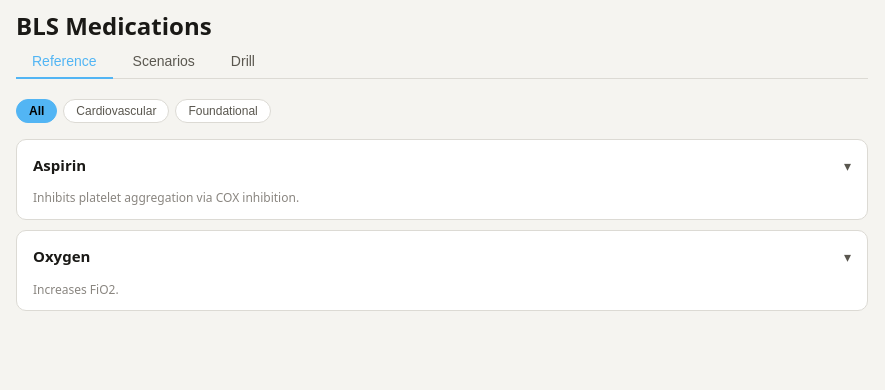
Test: BlsMedsView — Scenarios tab › shows followUp question in deep mode
Click the button "Scenarios": (164, 62) [117,45,211,79]
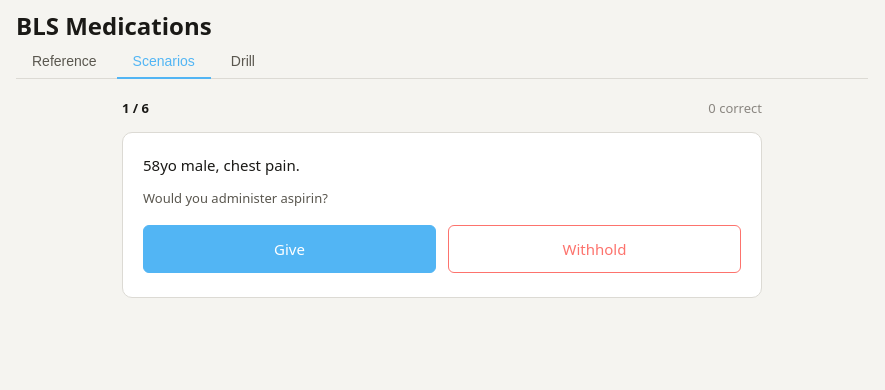
Click the button "Give": (290, 249) [143,225,436,273]
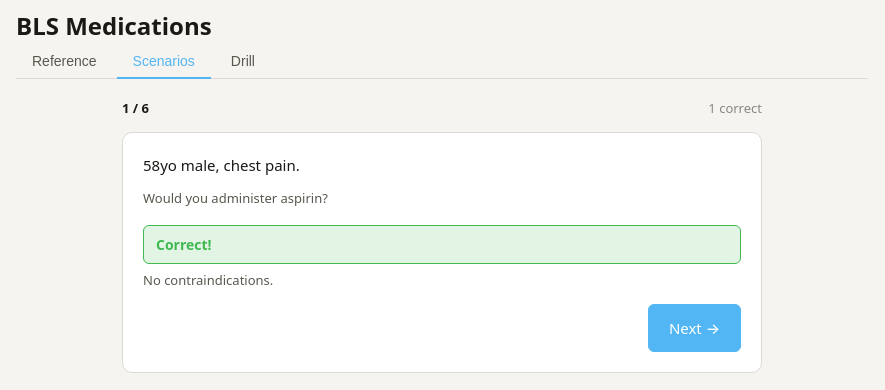
Click the button "Next →": (694, 328) [648,304,741,352]
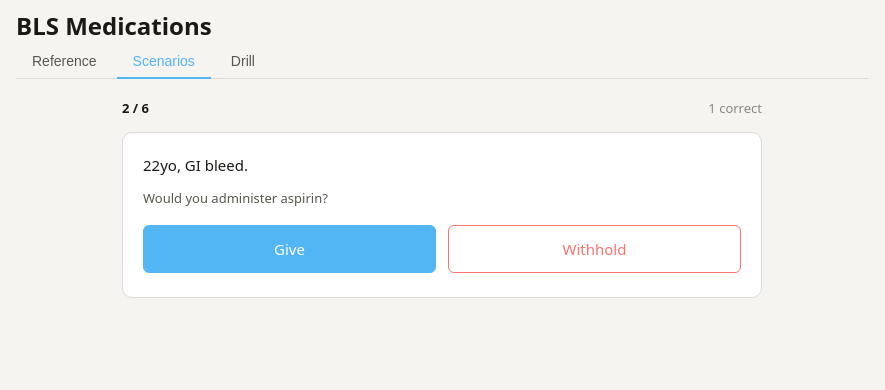
Click the button "Withhold": (594, 249) [448,225,741,273]
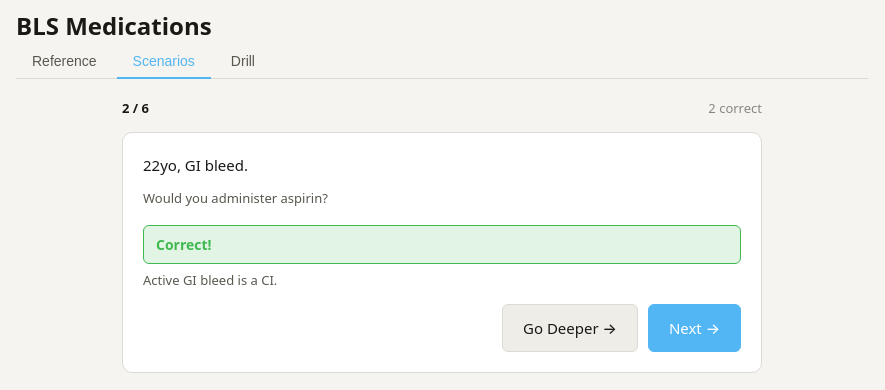
Click the button "Go Deeper →": (570, 328) [502,304,638,352]
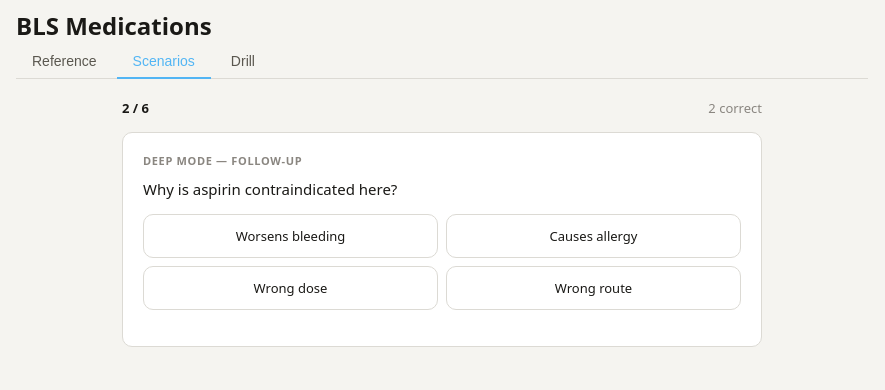
expect the text "Why is aspirin contraindicated here?" is shown: met, box [143,179,397,199]
